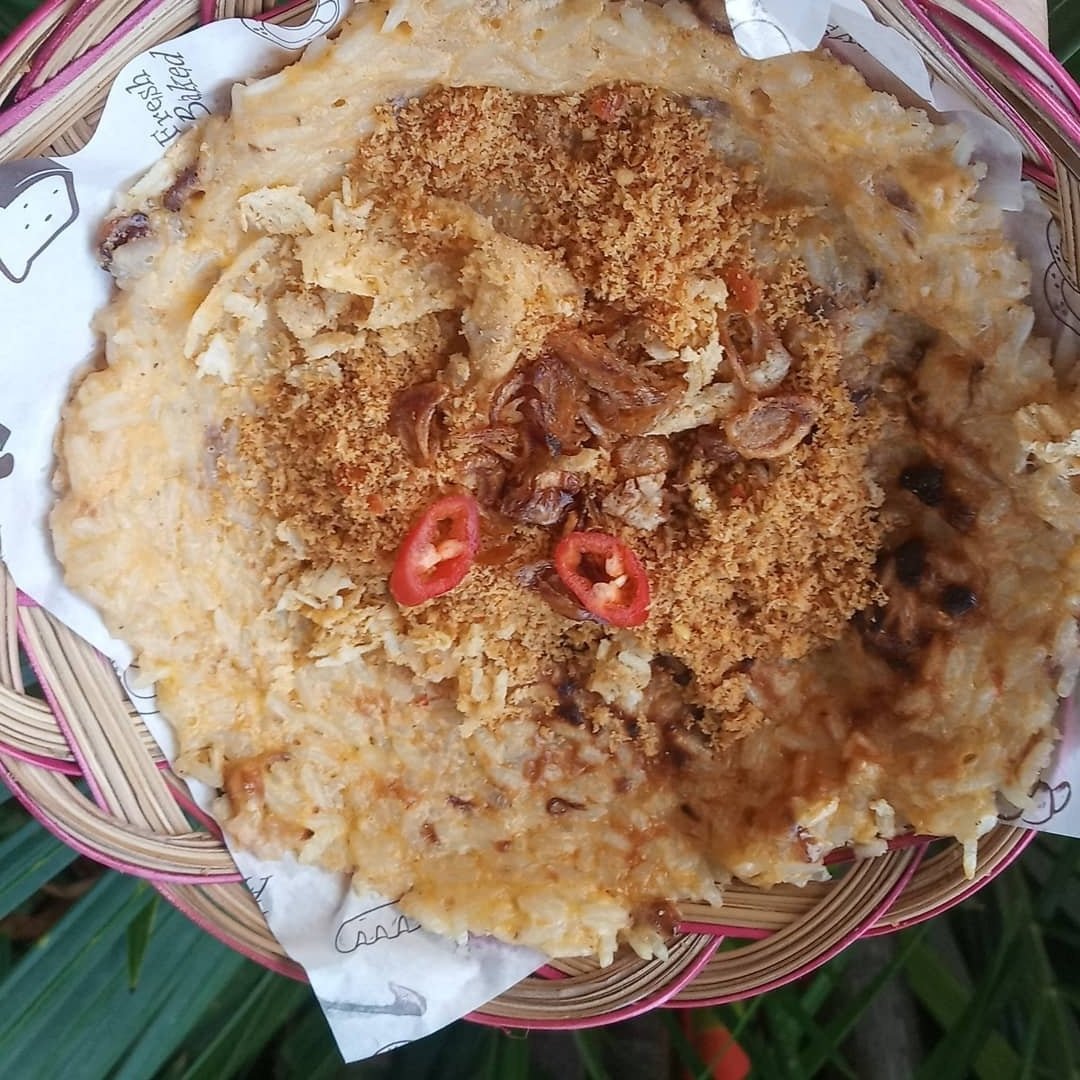kerak_telor: (50, 4, 1072, 957)
